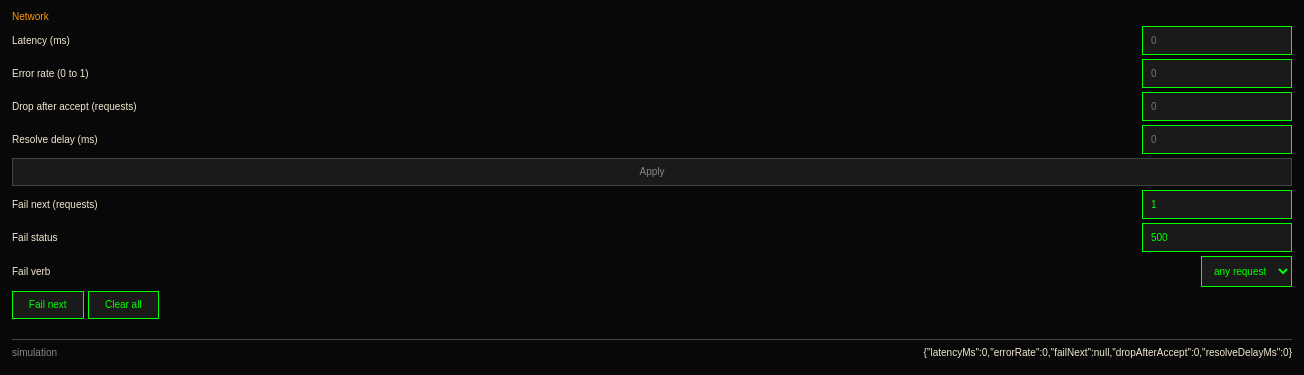
Scenario: NetworkSection › applies only the fields that were filled in
Check: the button "Apply" is disabled, box [12, 158, 1292, 186]
In the number field labelled "Latency (ms)": (1217, 40) [1142, 26, 1292, 55], type "250"
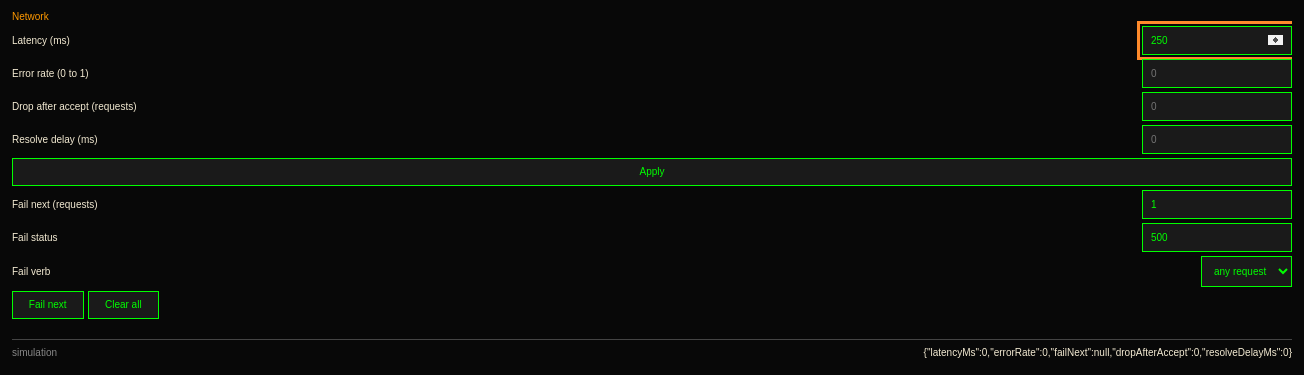
In the number field labelled "Error rate (0 to 1)": (1217, 74) [1142, 59, 1292, 88], type "0.5"
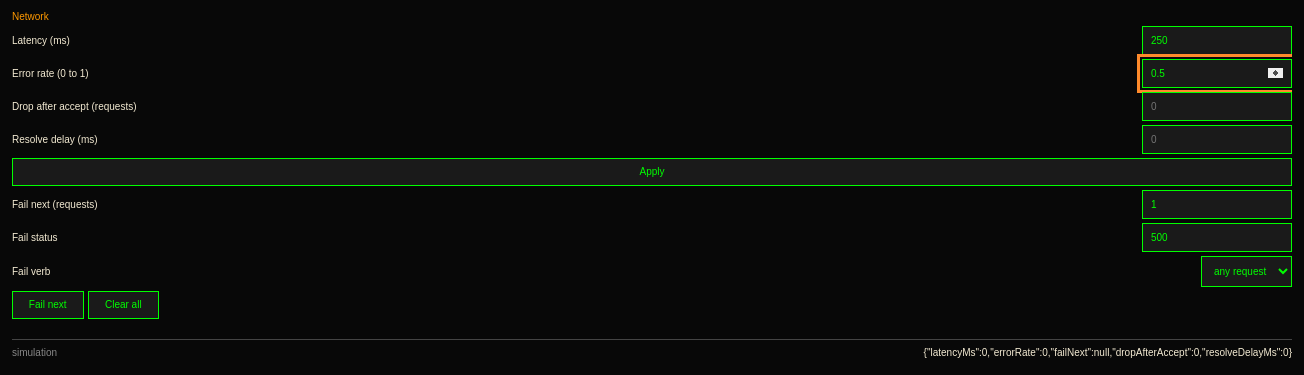
In the number field labelled "Drop after accept (requests)": (1217, 106) [1142, 92, 1292, 121], type "1"
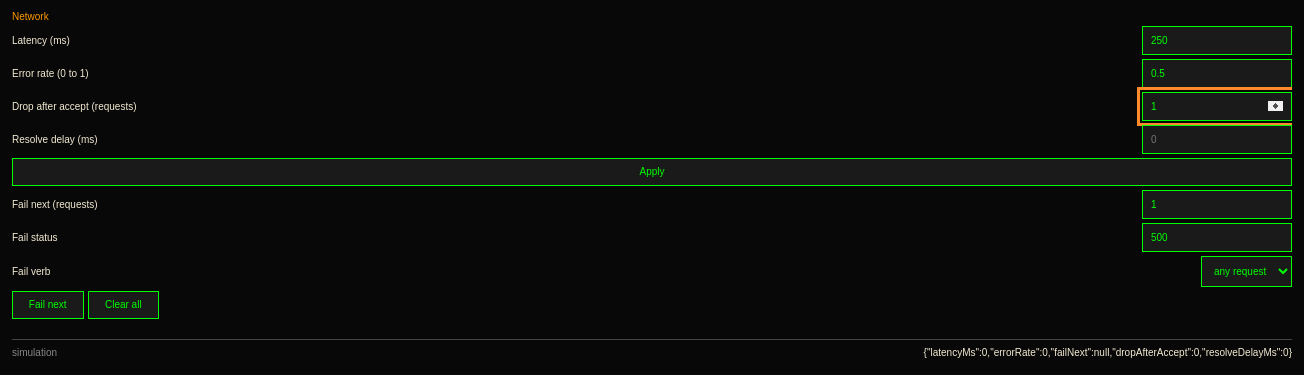
In the number field labelled "Resolve delay (ms)": (1217, 140) [1142, 125, 1292, 154], type "2000"
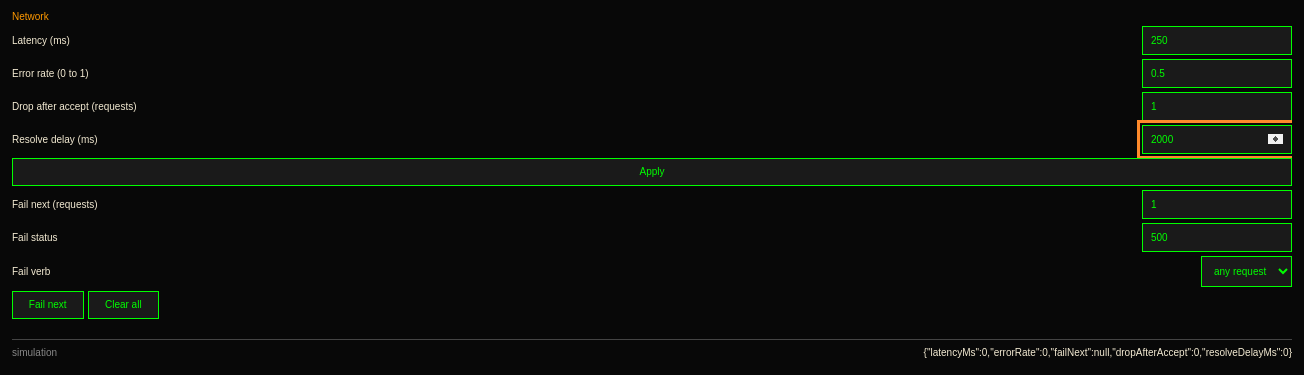
Click the button "Apply": (652, 172) [12, 158, 1292, 186]
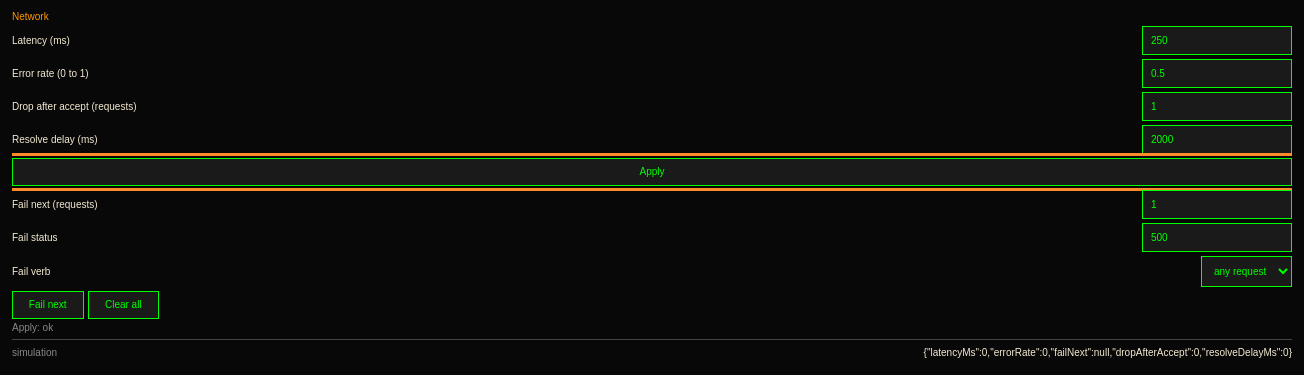
Check: the text "Apply: ok" is shown, box [12, 322, 53, 333]
